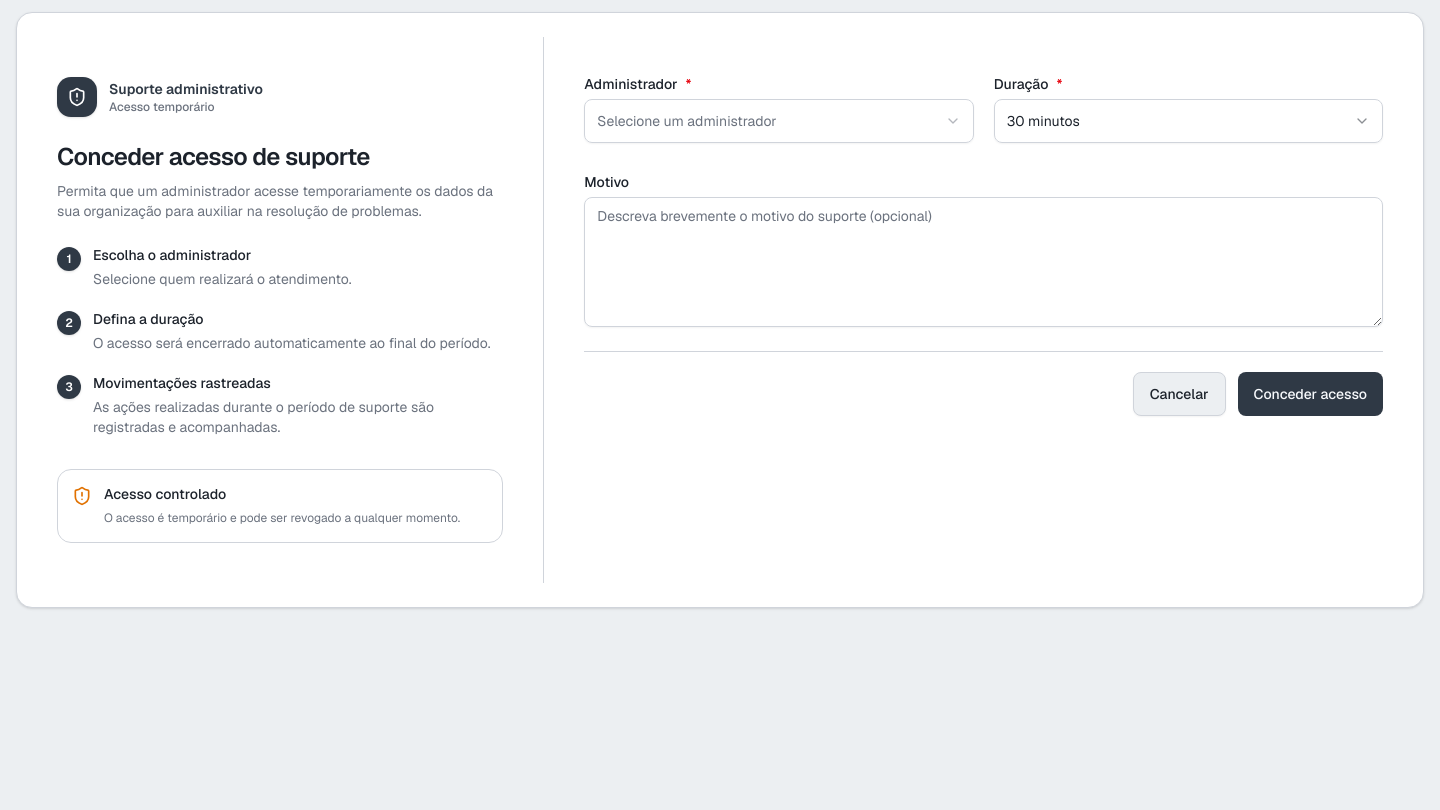
Scenario: AcessoSuporteFormConceder › cancelar a confirmação não envia nada
This screenshot has width=1440, height=810.
Click the dropdown labelled "Selecione um administrador" at [779, 121], box [584, 99, 974, 143]
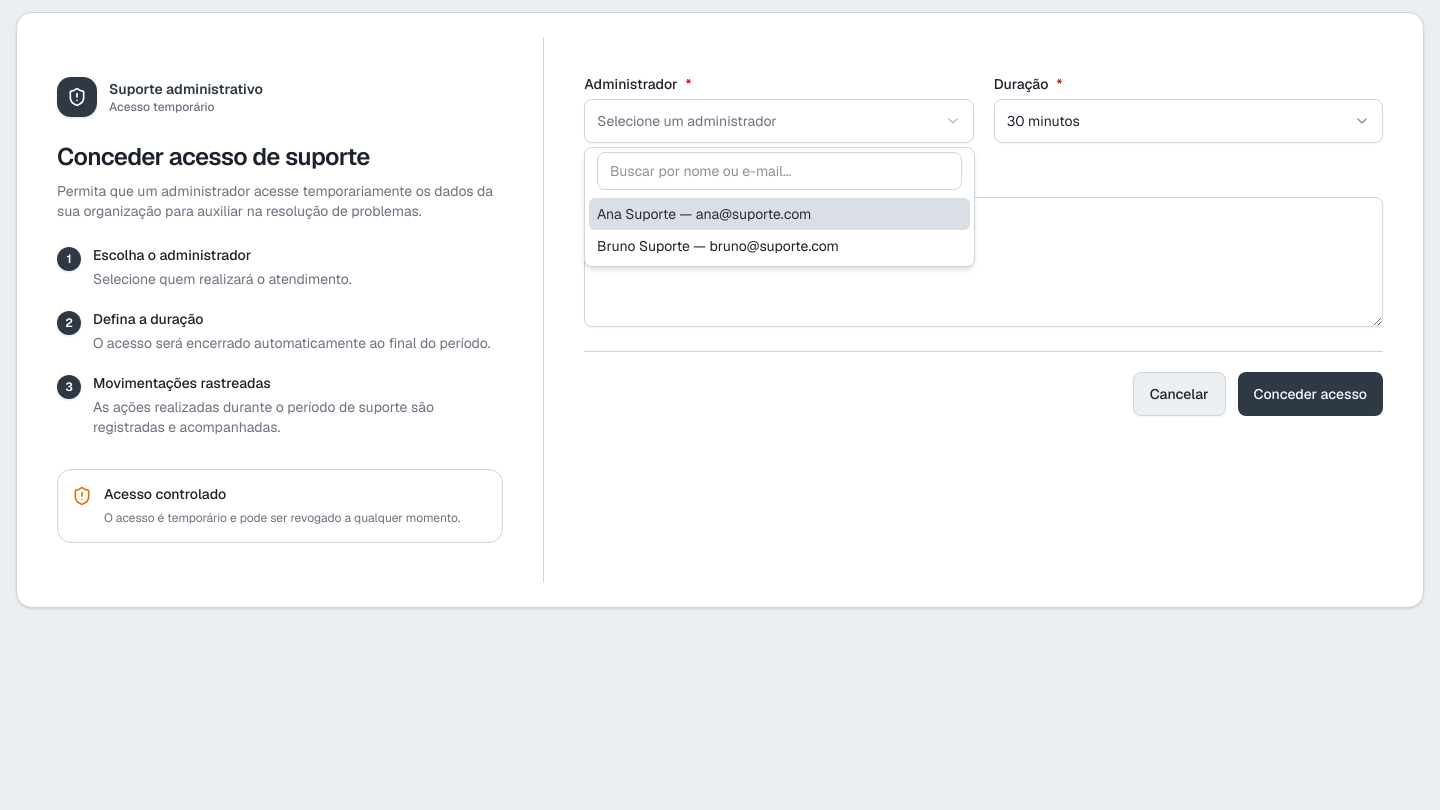
Click the option "Ana Suporte — ana@suporte.com" at [780, 214], box [589, 198, 970, 230]
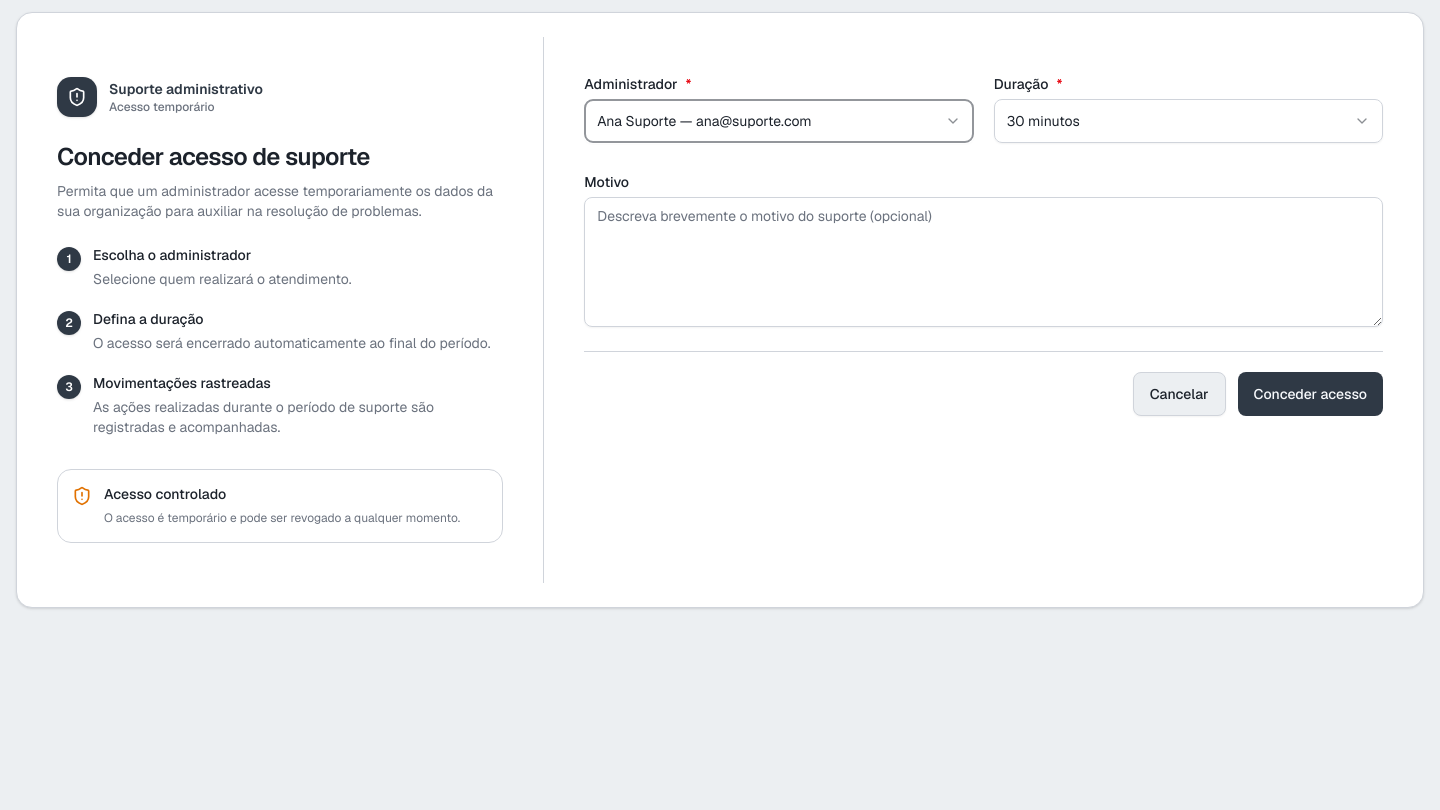
Click the button "Conceder acesso" at [1310, 394], box [1238, 372, 1383, 416]
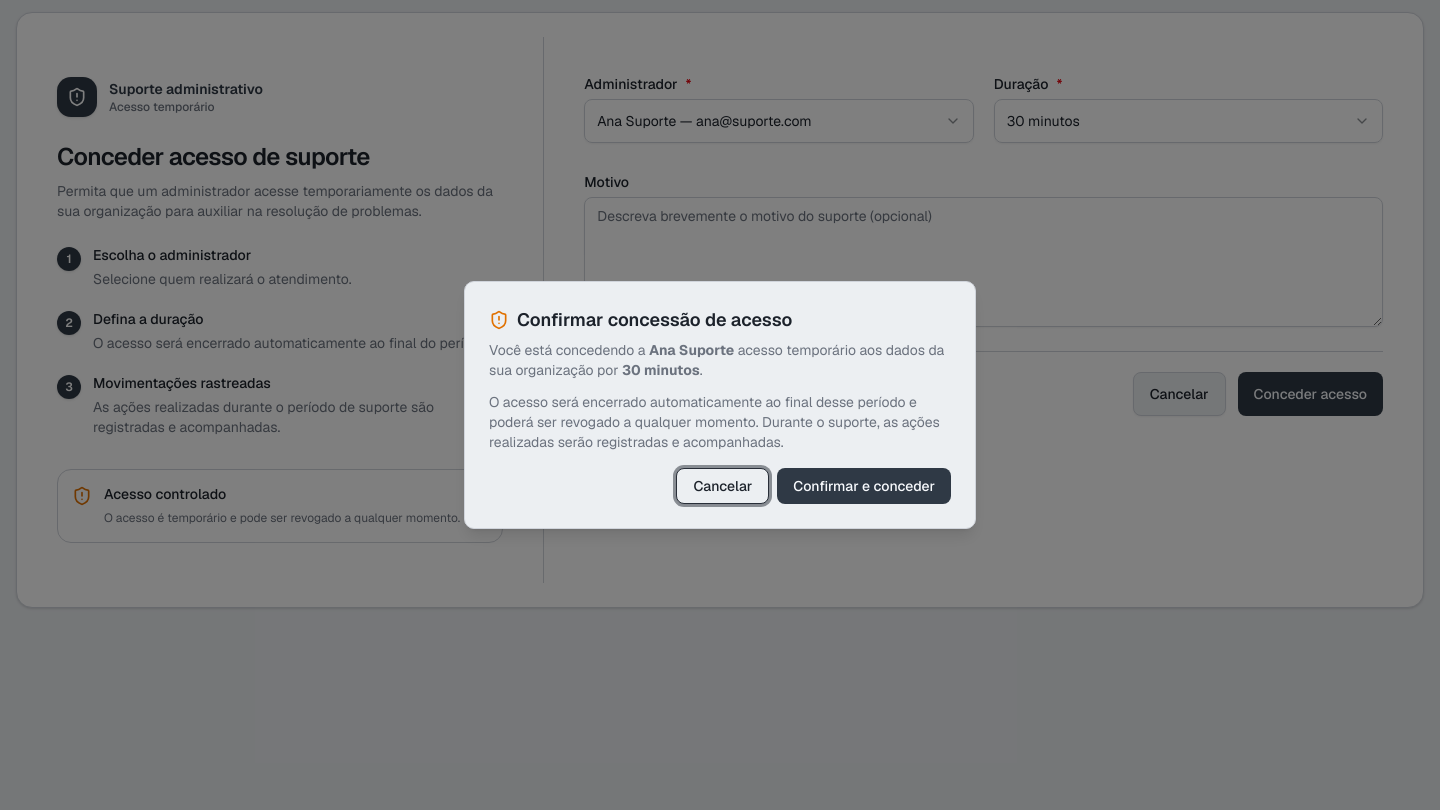
Click the button "Cancelar" at [723, 486], box [676, 468, 769, 504]
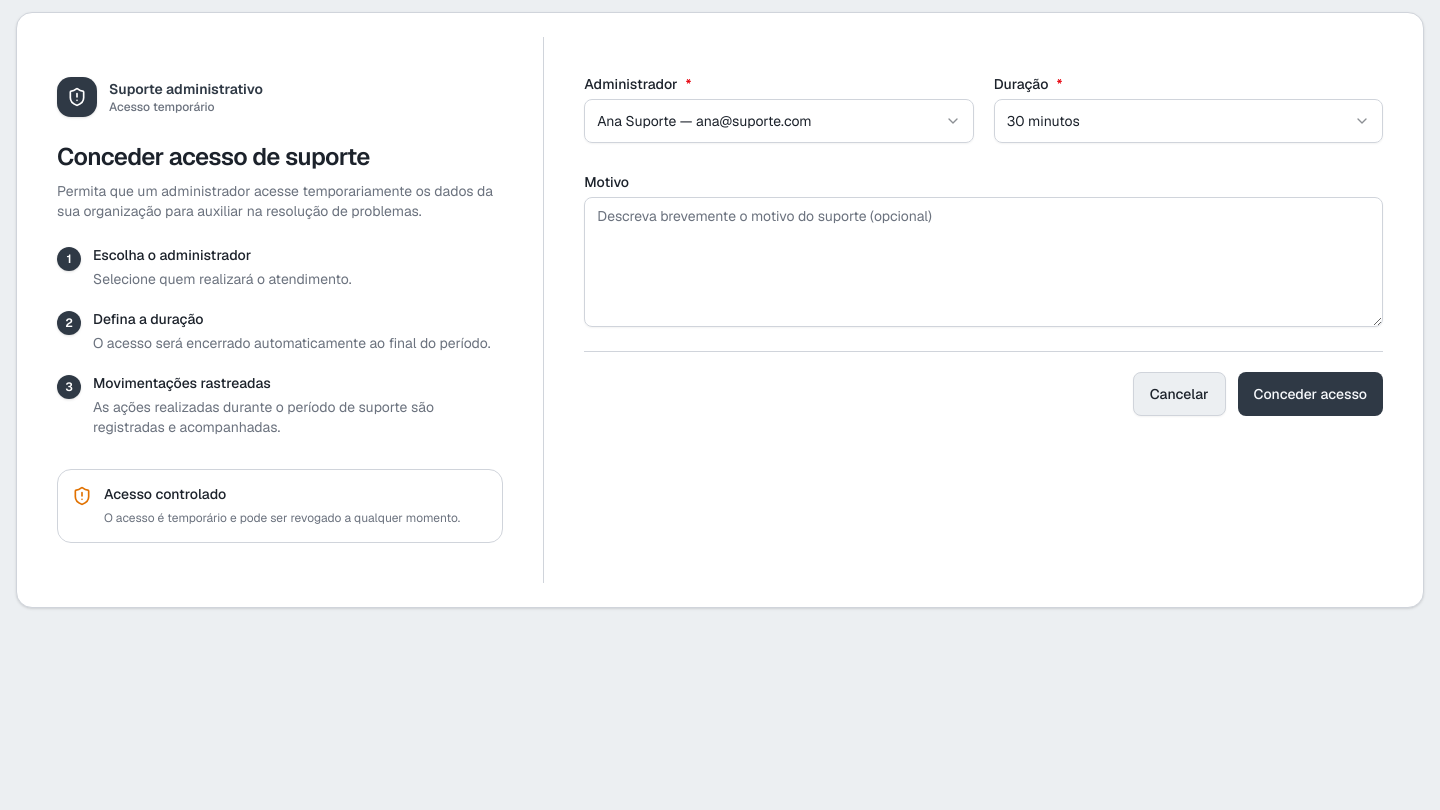
Now the dialog is gone
